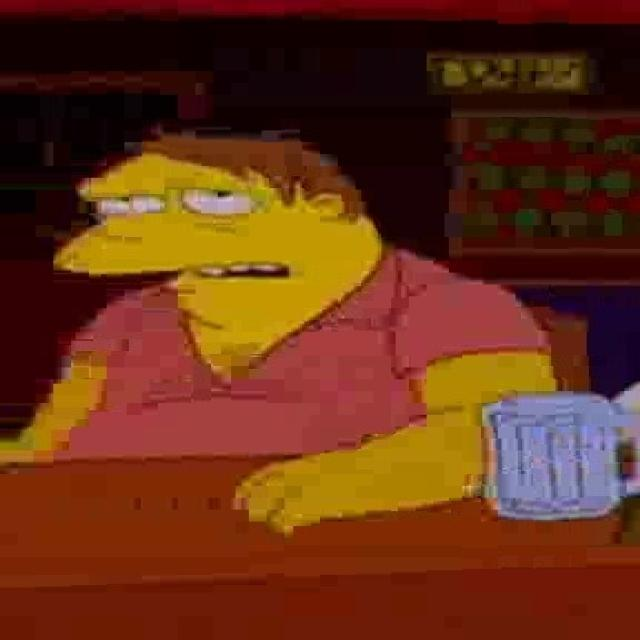Barney Gumble: (54, 130, 382, 338)
